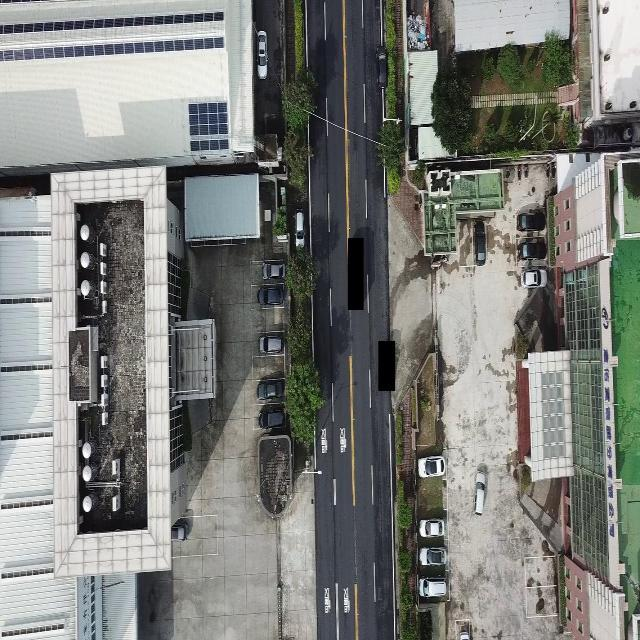car: (419, 578, 452, 603), (418, 454, 447, 480), (258, 283, 288, 306), (516, 209, 546, 232), (255, 28, 268, 79), (417, 546, 448, 567), (475, 216, 488, 266), (257, 377, 285, 400), (520, 267, 548, 290), (518, 239, 547, 261), (474, 469, 487, 516), (258, 409, 287, 430), (376, 43, 388, 91), (419, 517, 445, 539), (260, 334, 286, 356), (169, 517, 190, 542), (261, 261, 287, 281), (294, 207, 304, 249), (458, 622, 470, 640)
